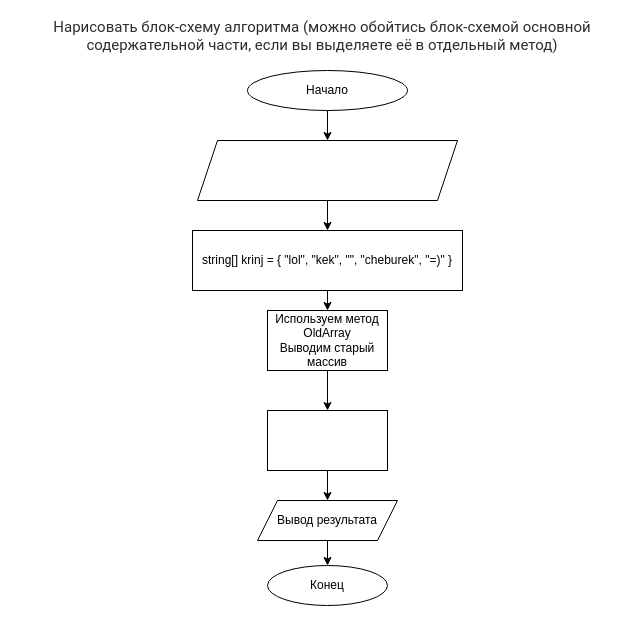
Image size: 644x623. Some labels were removed from this diagram. Here are the shapes that lost their labels. From the top down, the centre of each, then its label:
point (327, 170): string[] arrString; arrString = new string[5];
point (327, 440): Используем метод NewArray Ищем строки меньше 3 символов
